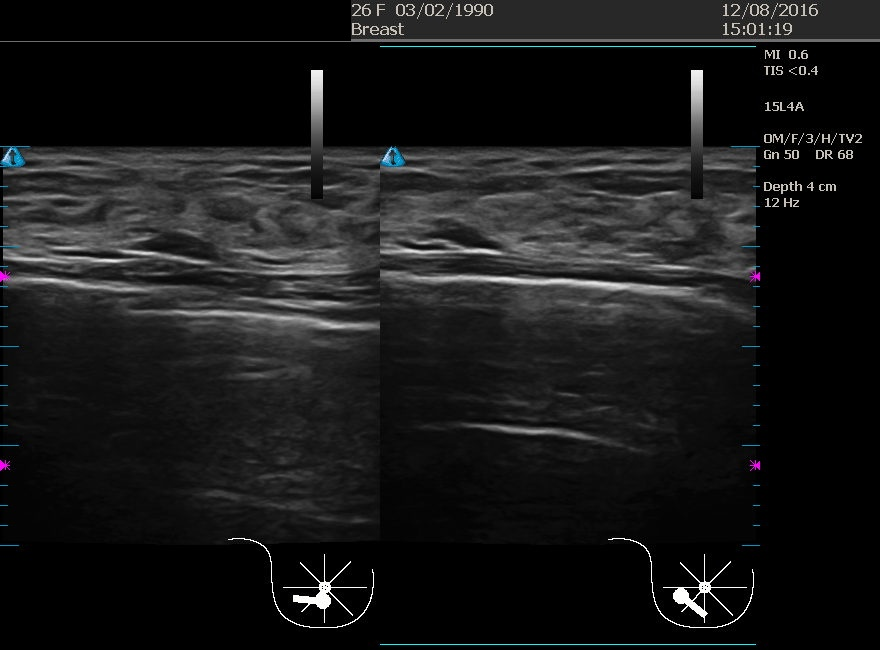BIRADS_2: (31, 168, 231, 368), (413, 154, 613, 354)
